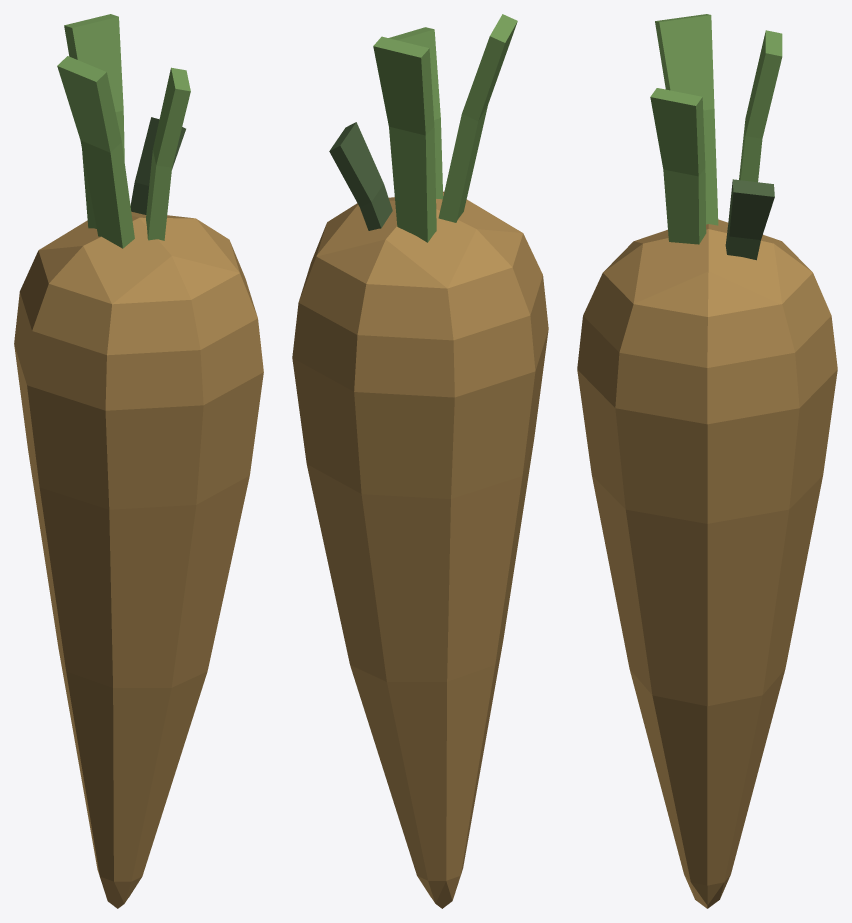
The model's file is Carrot_Crop.glb.
3 renders of one model, left to right at view 1: azimuth 30°, elevation 25°; view 2: azimuth 150°, elevation 25°; view 3: azimuth 270°, elevation 25°, orthographic. The views are drawn at different scales.
Visible parts, largest first — view 1: Carrot_Crop_Cylinder.014; view 2: Carrot_Crop_Cylinder.014; view 3: Carrot_Crop_Cylinder.014.
Boxes of the visible parts, bbox=[...] form: Carrot_Crop_Cylinder.014: bbox=[14, 14, 263, 908]; Carrot_Crop_Cylinder.014: bbox=[292, 14, 548, 908]; Carrot_Crop_Cylinder.014: bbox=[577, 14, 837, 908].
Size of the model in its own units: 0.239 by 0.8809 by 0.239.
